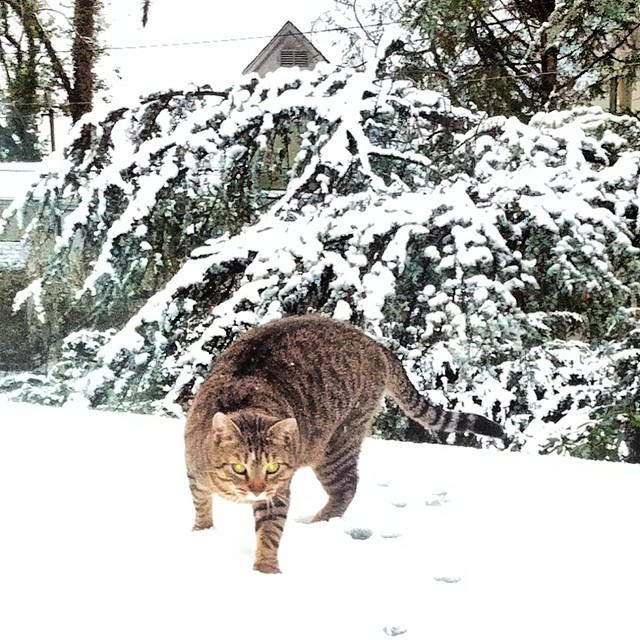cat: (184, 315, 507, 581)
